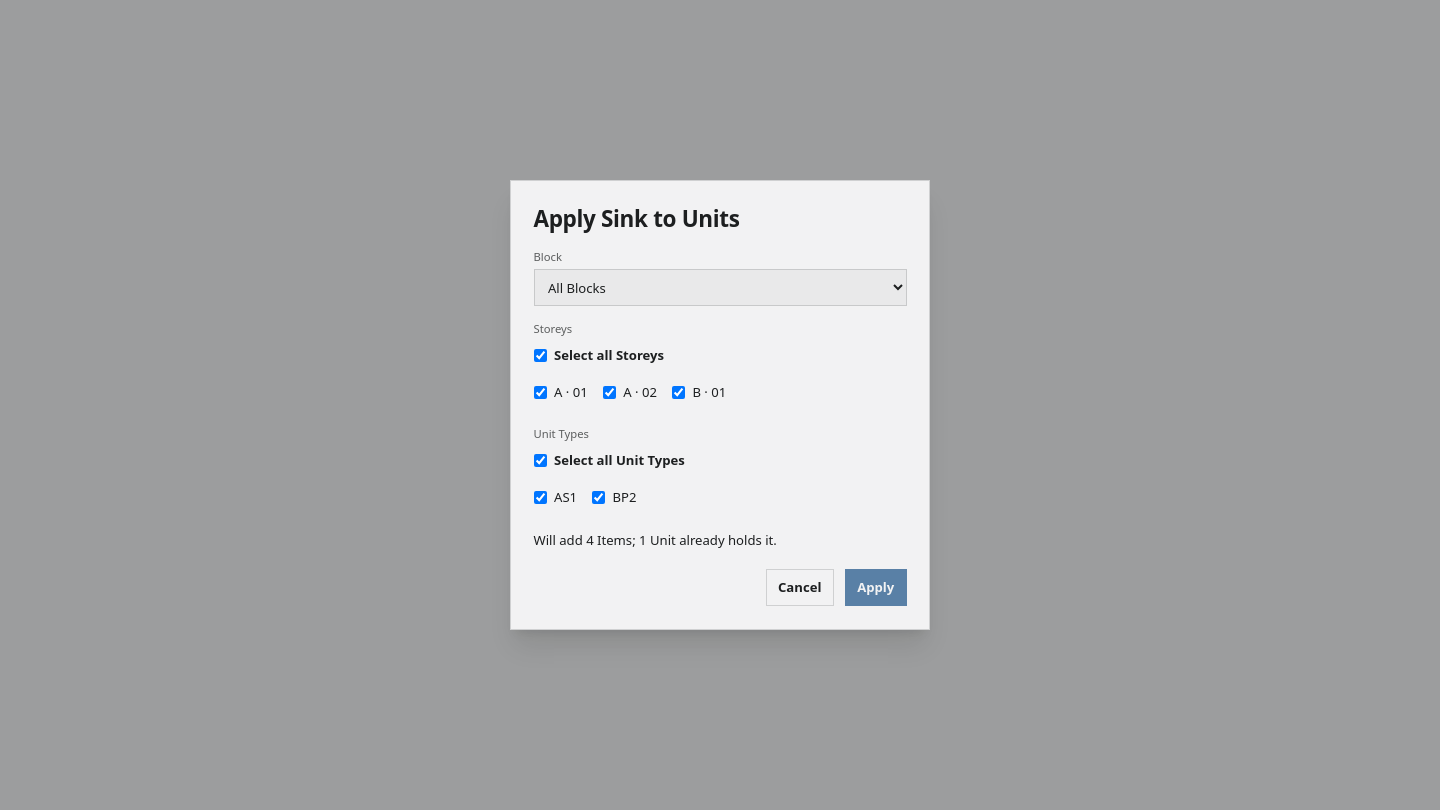
counts only Items made from this Catalogue Item and refuses to submit an emptied list
The image size is (1440, 810).
expect the message reads "Will add 4 Items; 1 Unit already holds it.": met, box [534,531,777,549]
Click the checkbox labelled "A · 02".
click(609, 392)  # box [603,386,616,399]
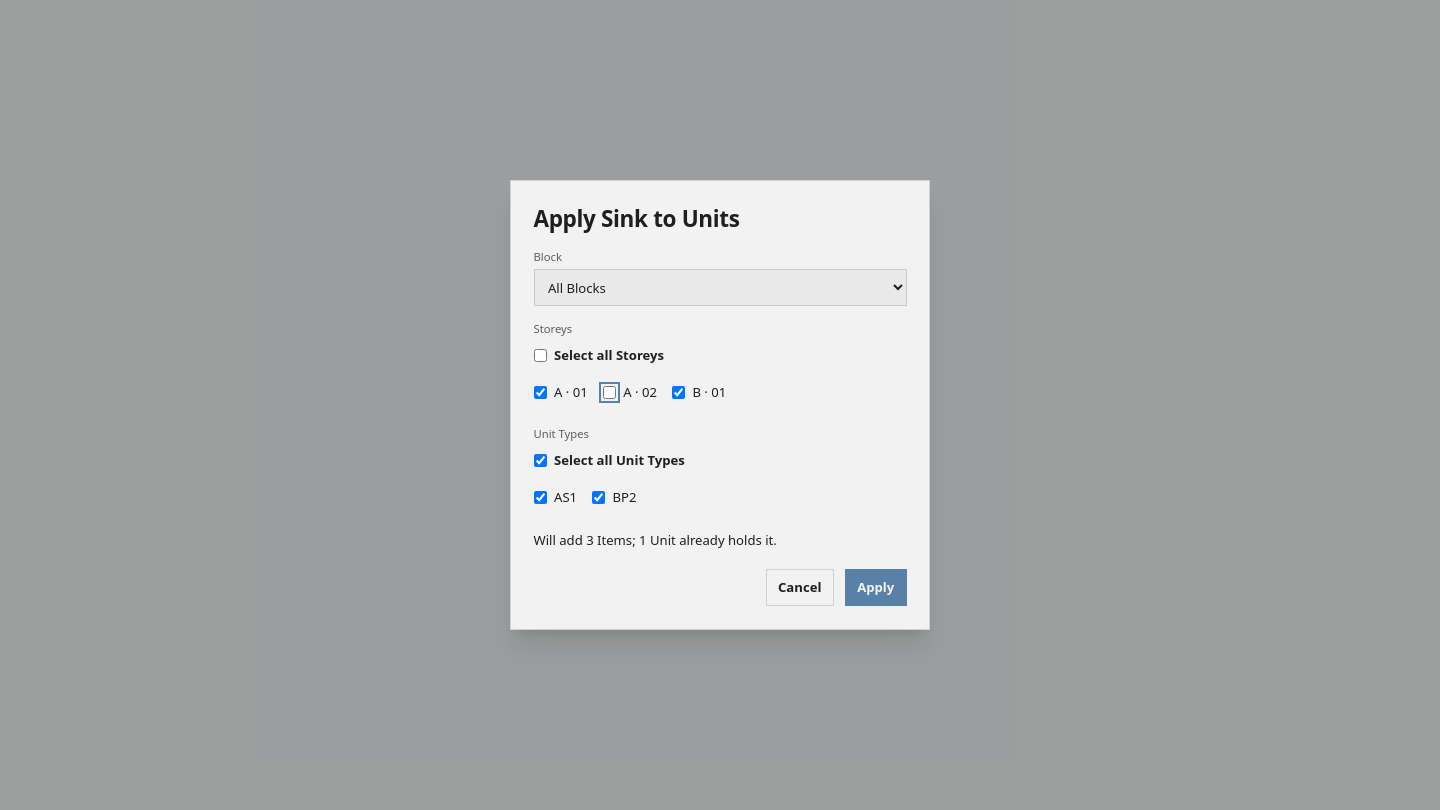
Click the checkbox labelled "B · 01".
click(678, 392)  # box [672,386,685,399]
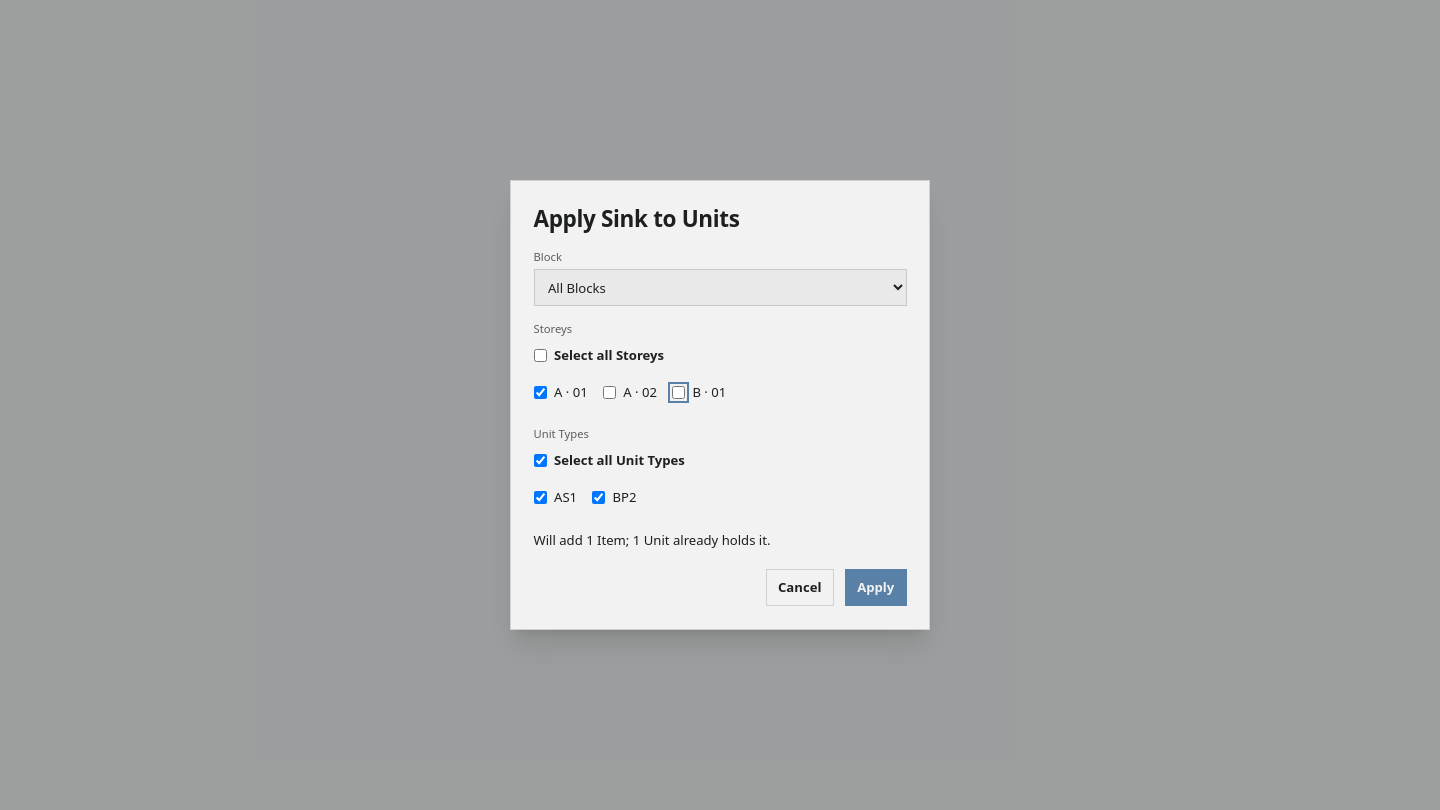
expect the message reads "Will add 1 Item; 1 Unit already holds it.": met, box [534,531,770,549]
Click the checkbox labelled "Select all Unit Types".
click(540, 460)  # box [534,454,546,466]
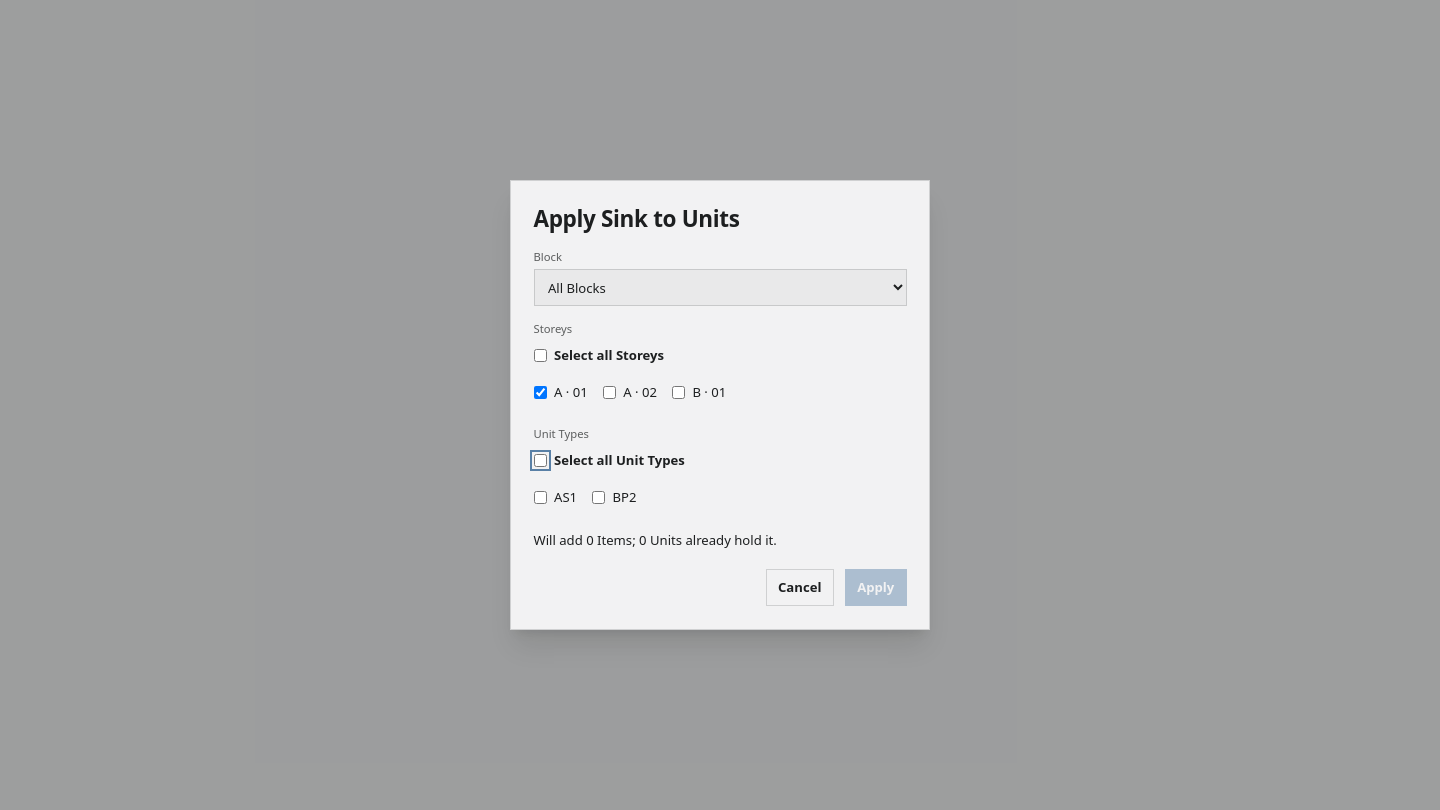
expect the message reads "Will add 0 Items; 0 Units already hold it.": met, box [534,531,777,549]
expect the button "Apply" is disabled: met, box [845,569,906,606]
